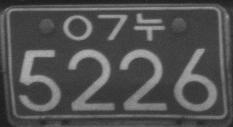0: (62, 14, 93, 41)
2: (67, 47, 116, 112), (119, 47, 168, 112)
5: (18, 48, 62, 112)
6: (172, 48, 218, 112)
7: (97, 13, 128, 41)
누: (133, 12, 165, 42)
